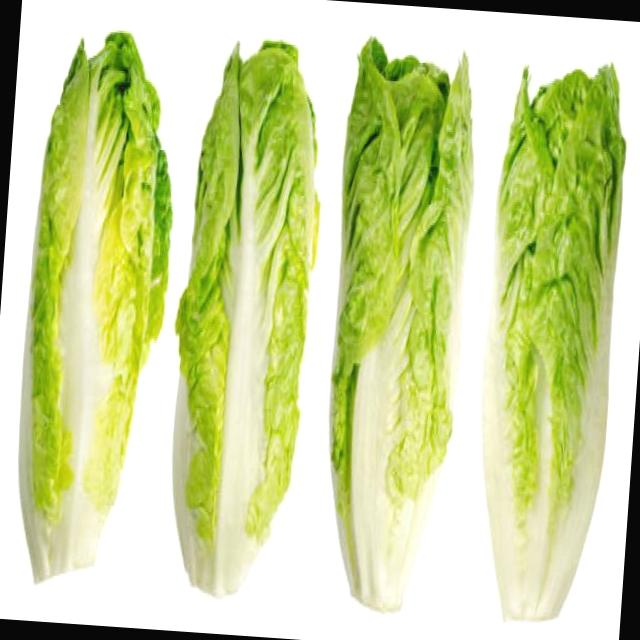Lettuce-Ready-to-Harvest: (18, 30, 173, 585), (481, 64, 627, 624), (330, 41, 471, 614), (174, 42, 319, 598)
